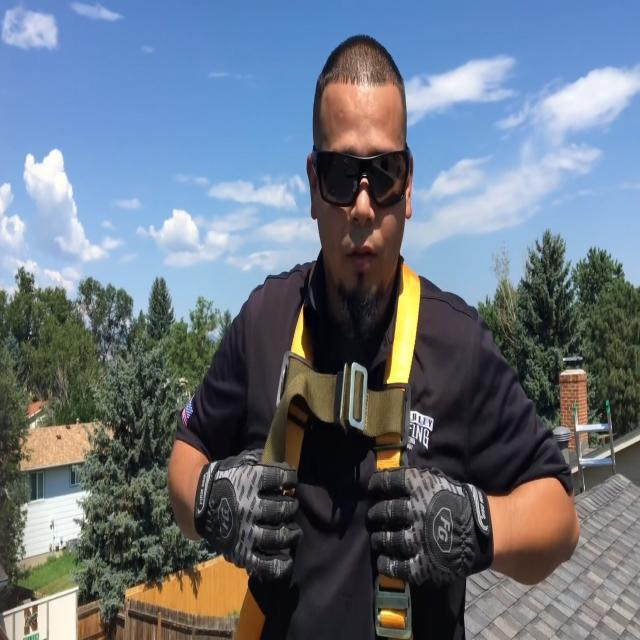belt: (225, 239, 430, 640)
